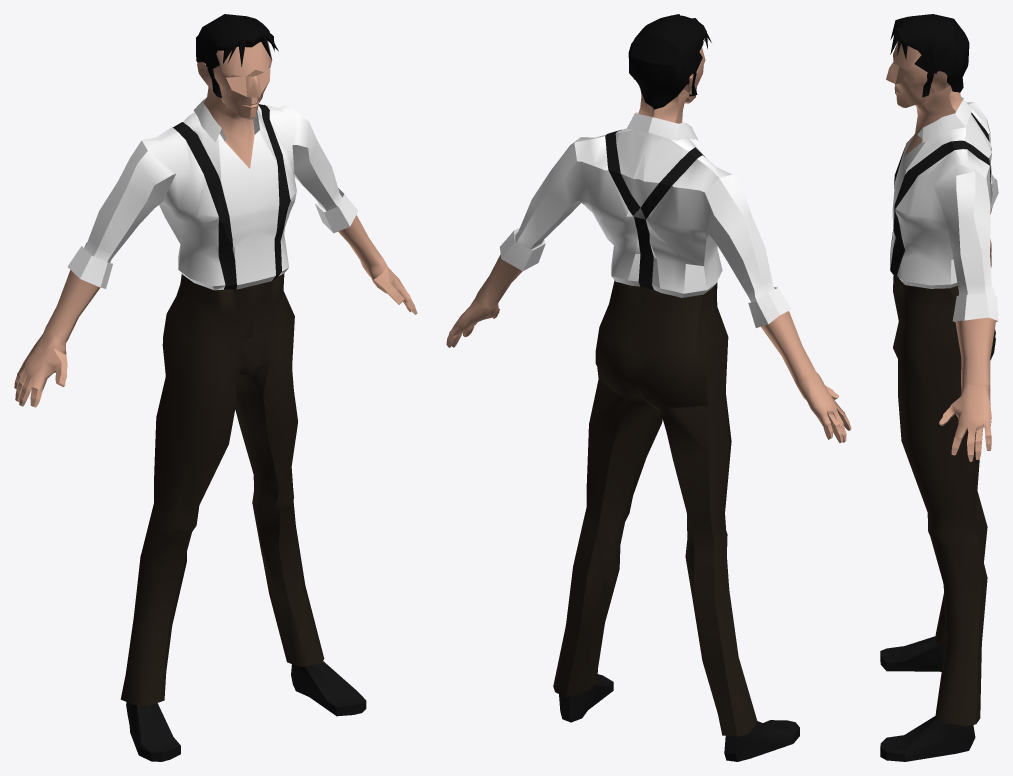
The model's file is sherlock.fbx.
3 views of the same model, side by side, from view 1: azimuth 30°, elevation 25°; view 2: azimuth 150°, elevation 25°; view 3: azimuth 270°, elevation 25° (orthographic).
Visible parts, largest first — view 1: Sherlock; view 2: Sherlock; view 3: Sherlock.
Boxes of the visible parts, x1=… form: Sherlock: x1=14, y1=14, x2=417, y2=761; Sherlock: x1=446, y1=14, x2=851, y2=761; Sherlock: x1=880, y1=14, x2=998, y2=761.
Bounding box in the file's own units: 51.41 × 88.05 × 13.6.
